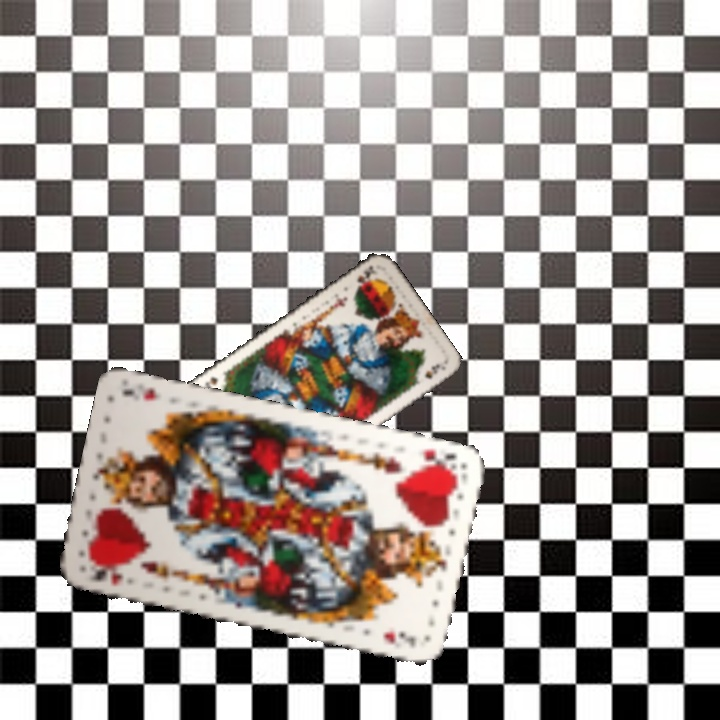HK: (416, 445, 461, 476), (86, 559, 127, 588)
SK: (351, 261, 379, 291)
